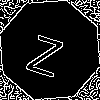Z: (25, 25, 68, 78)
